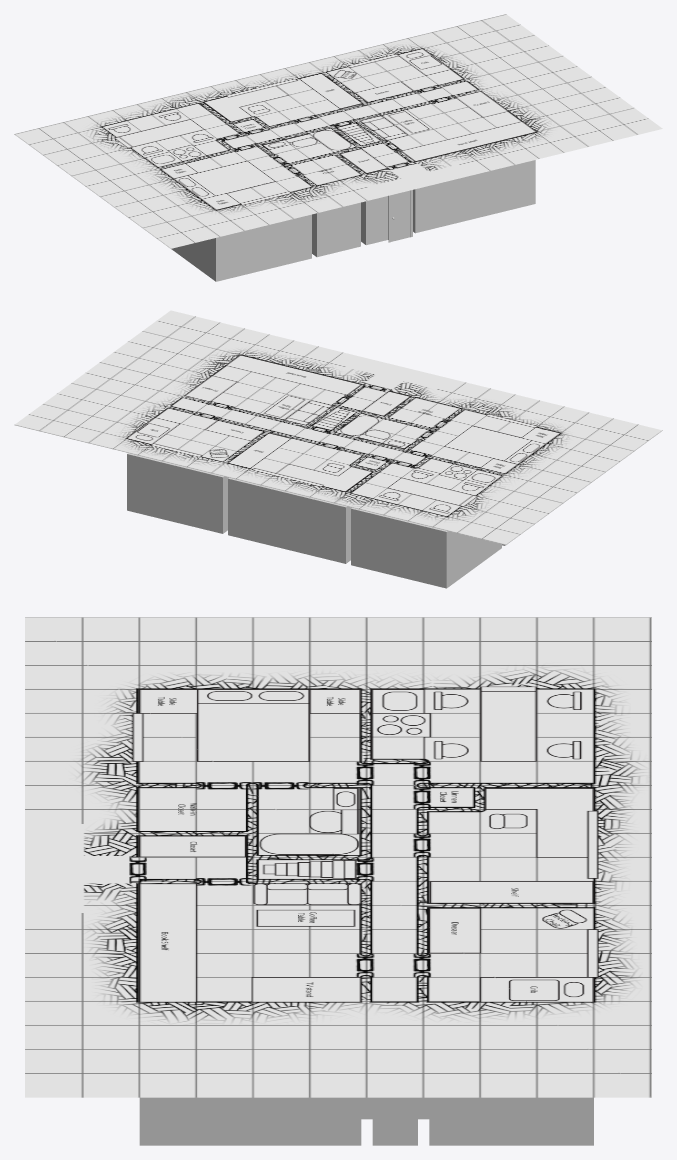
File: HouseMK2.fbx
3 views of the same model, one above another, from view 1: azimuth 30°, elevation 25°; view 2: azimuth 150°, elevation 25°; view 3: azimuth 270°, elevation 25° (orthographic). The views are drawn at different scales.
Visible parts, largest first — view 1: NewLayout-01, Walls, Windows, Front_Door; view 2: NewLayout-01, Walls, Ceiling; view 3: NewLayout-01, Walls.
Boxes of the visible parts, <box> form: NewLayout-01: <box>14,14,662,248</box>; Walls: <box>171,160,535,281</box>; Windows: <box>240,220,289,275</box>; Front_Door: <box>386,190,412,242</box>; NewLayout-01: <box>14,310,662,544</box>; Walls: <box>127,454,505,588</box>; Ceiling: <box>127,453,447,531</box>; NewLayout-01: <box>25,617,651,1097</box>; Walls: <box>139,1097,593,1145</box>.
Bounding box in the file's own units: 2002 × 280 × 1105.
